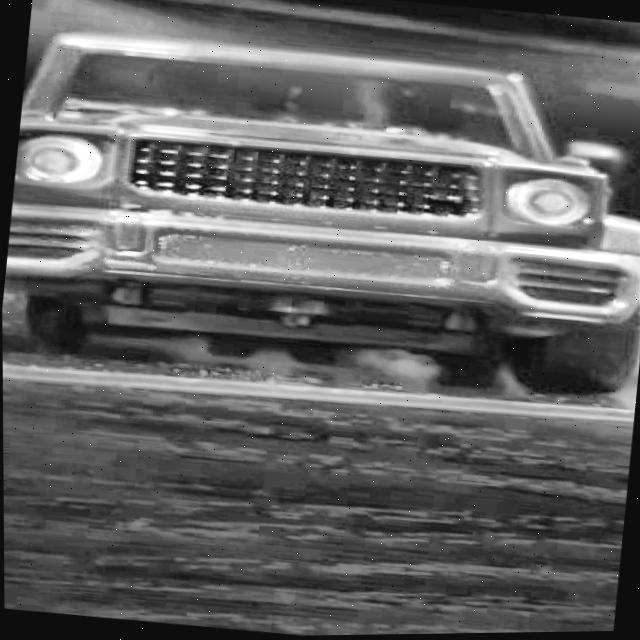light_vehicle: (0, 11, 640, 403)
